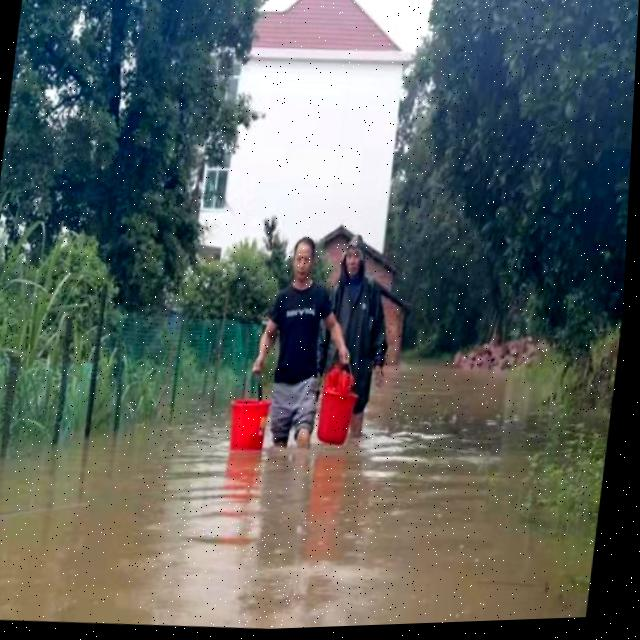civilian: (242, 222, 348, 465), (309, 220, 404, 473)
